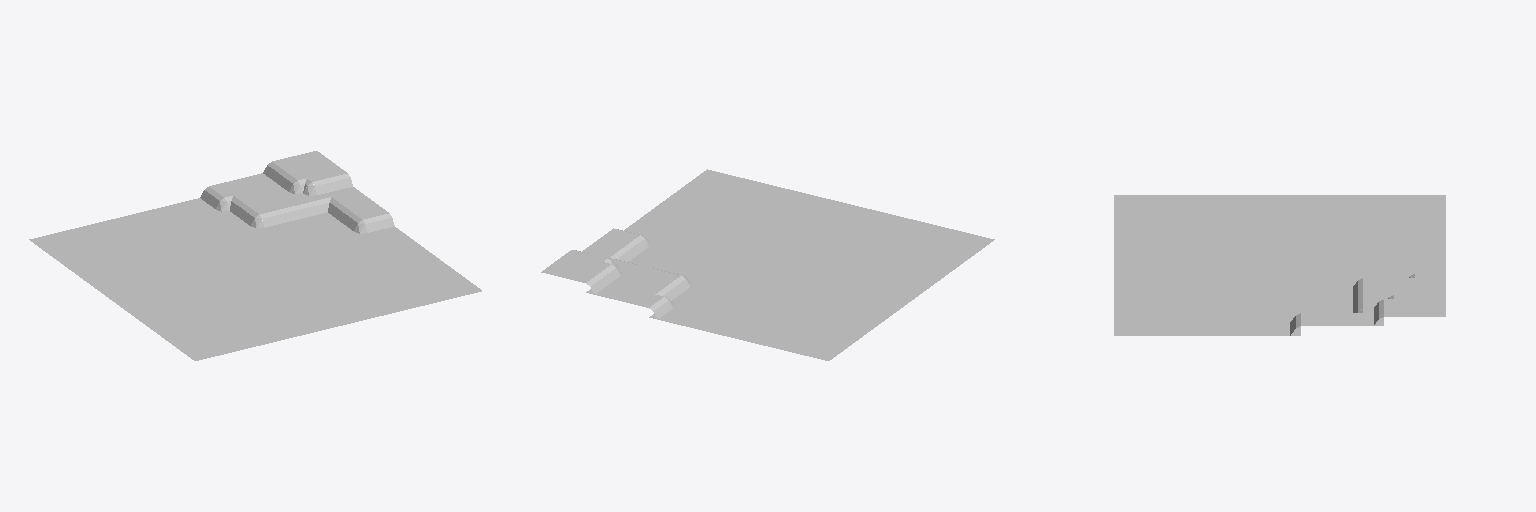
Rendered from GrassRouteArena.obj.
3 renders of one model, left to right at view 1: azimuth 30°, elevation 25°; view 2: azimuth 150°, elevation 25°; view 3: azimuth 270°, elevation 25°, orthographic.
Parts seen in each view (by area): view 1: map; view 2: map; view 3: map.
Part boxes in pixels (x1,y1,x2,y2): map: (29, 151, 481, 360); map: (541, 169, 994, 360); map: (1114, 195, 1445, 335).
Size of the model in its own units: 32 by 2 by 32.